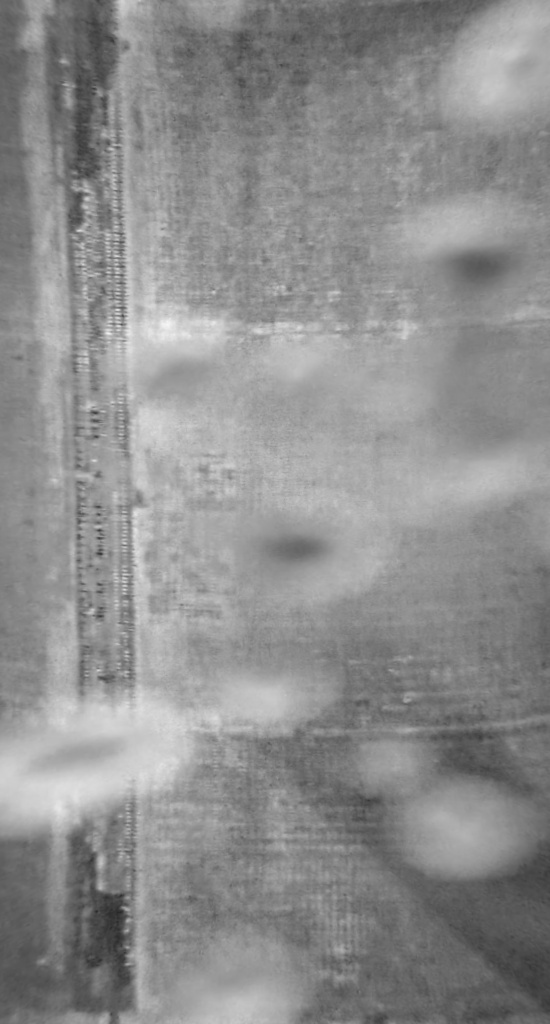splice: (48, 1, 145, 1022)
